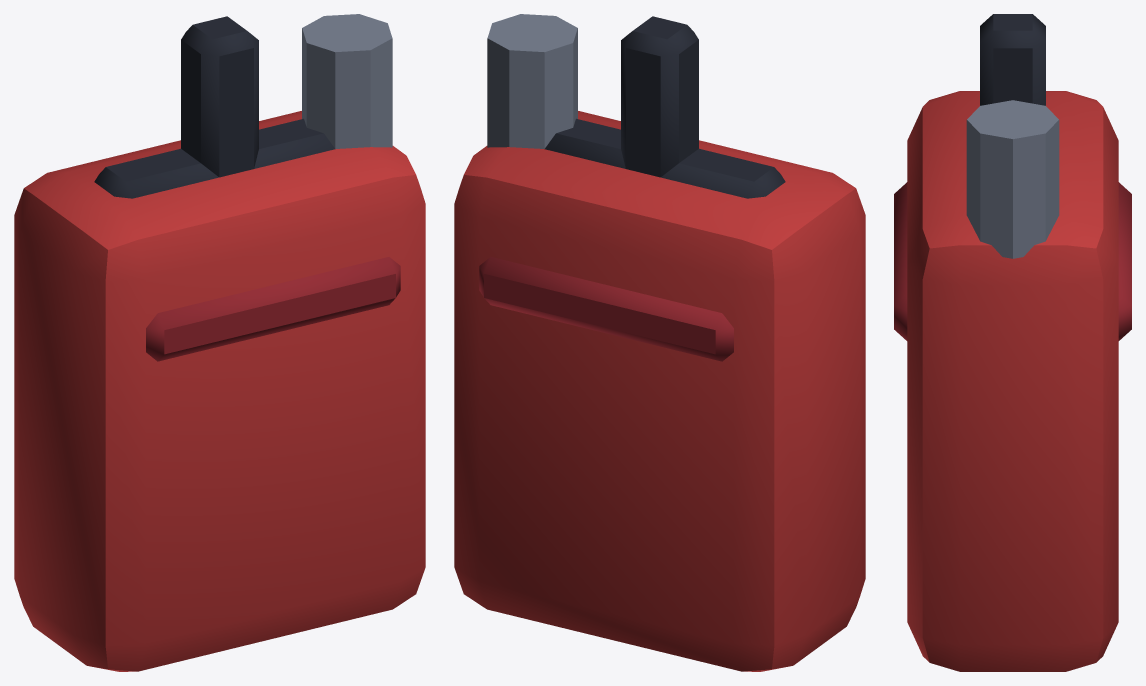
File: c_can.glb
The picture shows the model from 3 angles, left to right: view 1: azimuth 30°, elevation 25°; view 2: azimuth 150°, elevation 25°; view 3: azimuth 270°, elevation 25°; orthographic projection.
Parts seen in each view (by area): view 1: body; view 2: body; view 3: body.
Part boxes in pixels (x1,y1,x2,y2): body: (14,14,425,671); body: (454,14,865,671); body: (894,14,1131,671).
Size of the model in its own units: 0.3 by 0.49 by 0.18.
